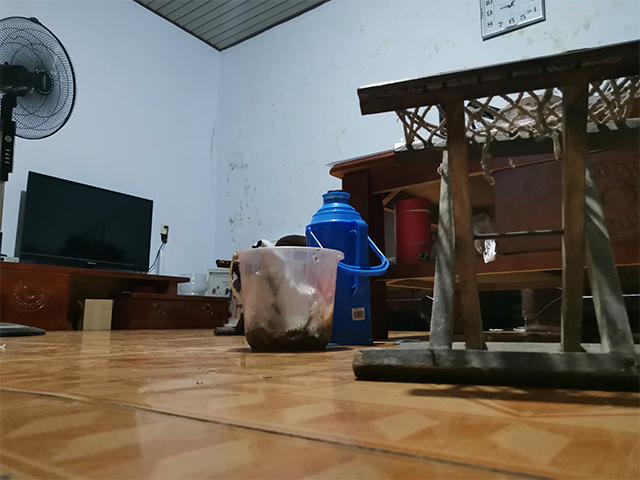cabinet: (1, 260, 236, 331)
stool: (351, 37, 640, 393)
trashcan: (227, 245, 346, 354)
